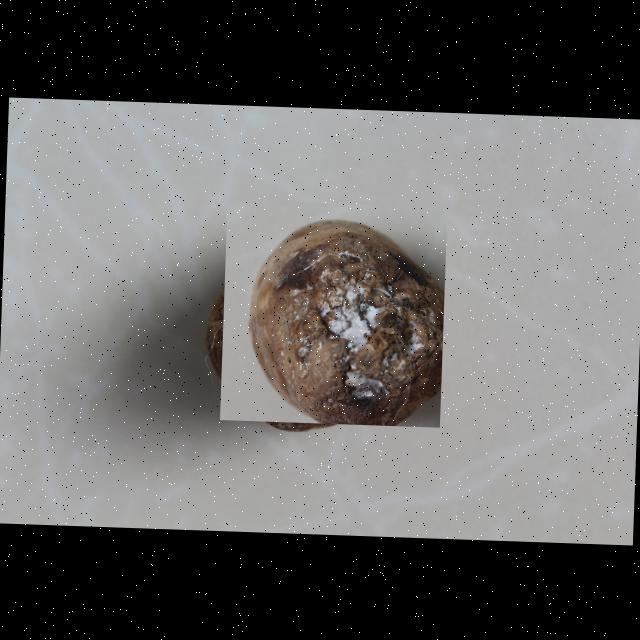Diseased-fungal potato: (218, 198, 446, 426)
